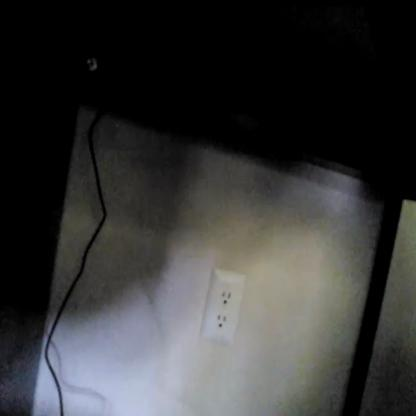OUTLET: (204, 267, 242, 343)
